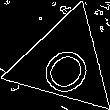O_NE: (31, 30, 97, 96)
